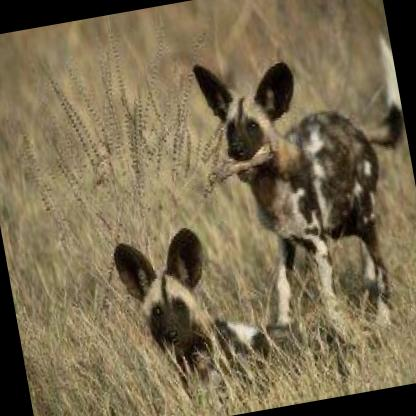African_hunting_dog: (176, 0, 416, 369), (98, 197, 318, 375)
